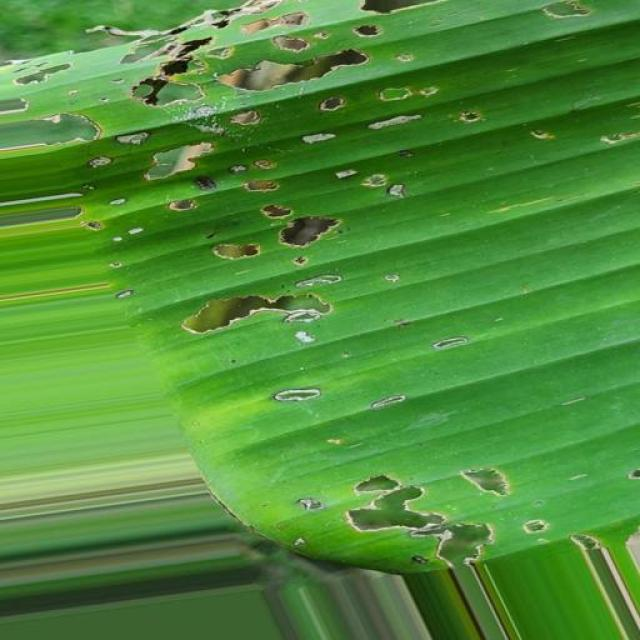Black_rot: (3, 3, 640, 564)
